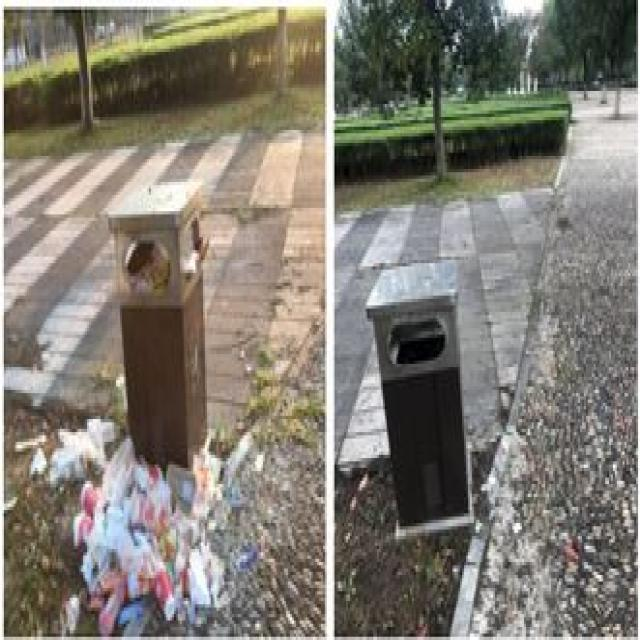garbage: (14, 416, 257, 637)
garbage_bin: (365, 257, 474, 536)
overflow: (106, 178, 205, 468)
